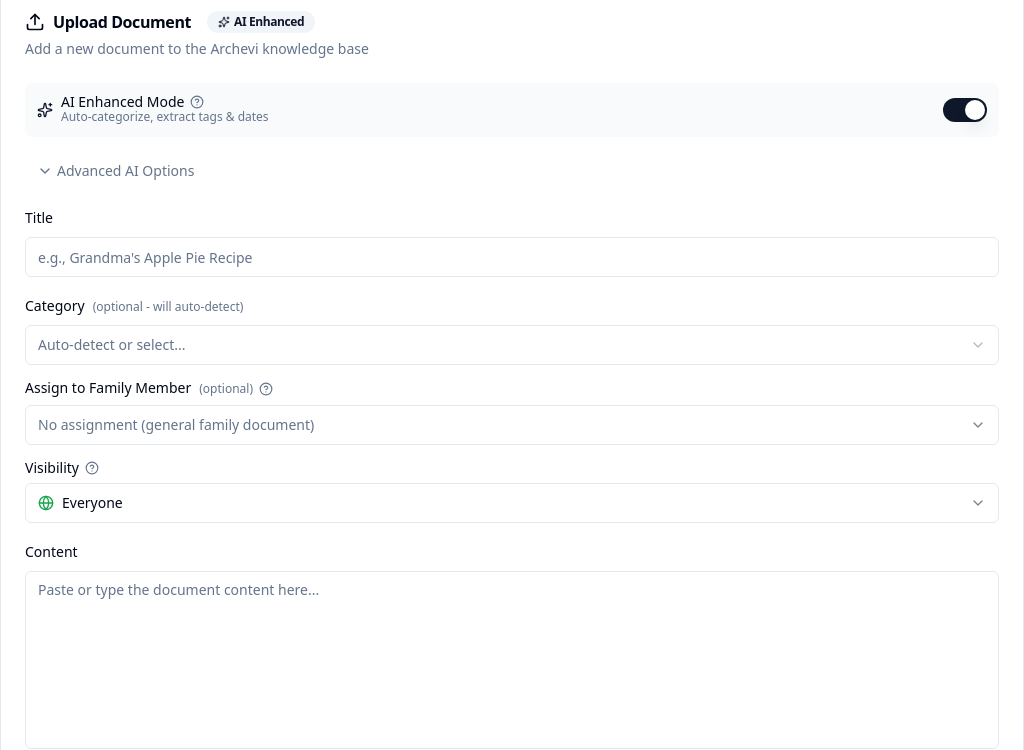
Test: DocumentUpload › Standard Mode Submission › shows category required error when enhanced mode is off
Note: Turn off enhanced mode
Click the switch named "AI Enhanced Mode" at {"x": 965, "y": 110}, box x1=943 y1=98 x2=987 y2=122
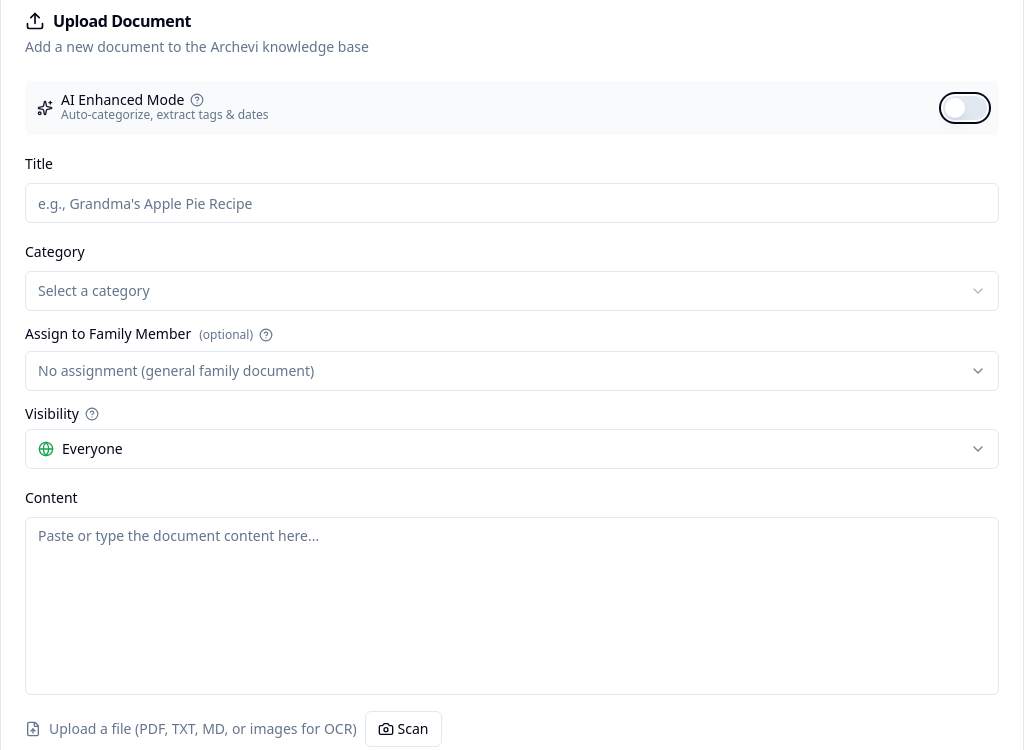
Type "Test Document" into the field labelled "Title" at {"x": 512, "y": 203}, box x1=25 y1=183 x2=999 y2=223
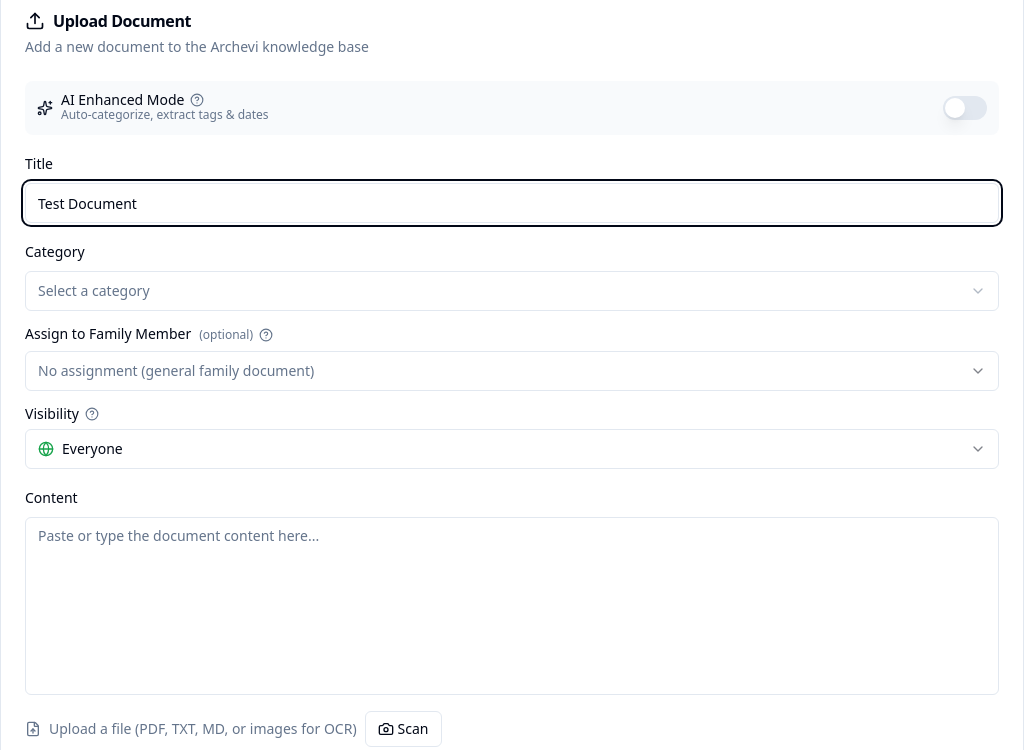
Type "Content here" into the text box labelled "Content" at {"x": 512, "y": 606}, box x1=25 y1=517 x2=999 y2=695
(page scrolled)
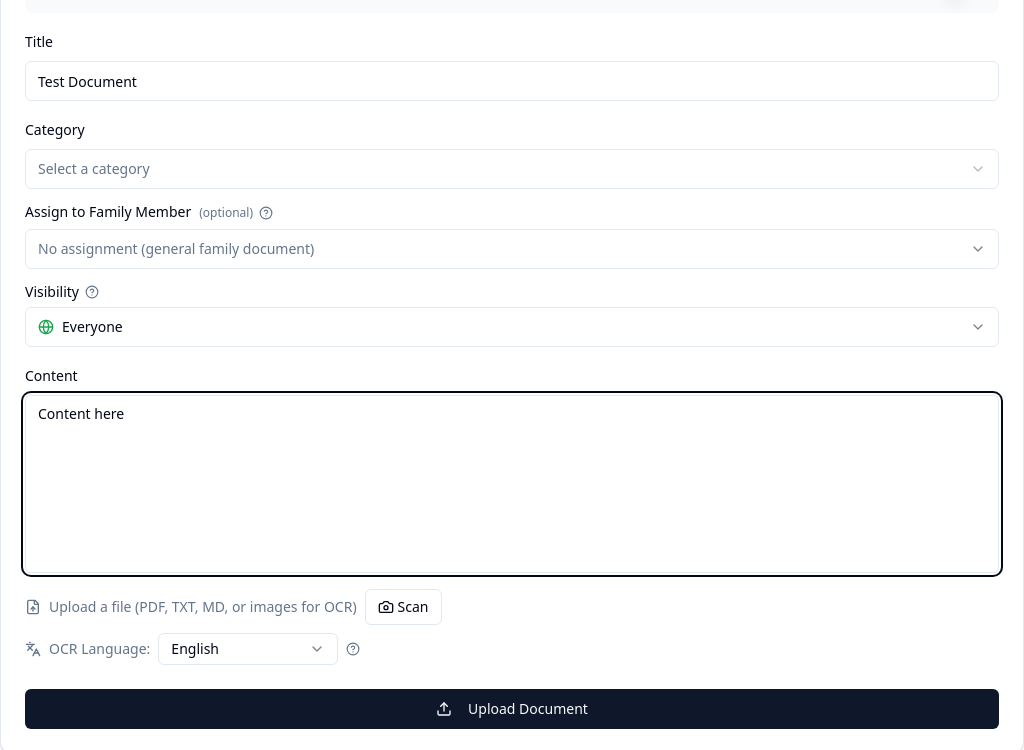
Note: Submit without selecting category
Click the button "Upload Document" at {"x": 512, "y": 709}, box x1=25 y1=689 x2=999 y2=729
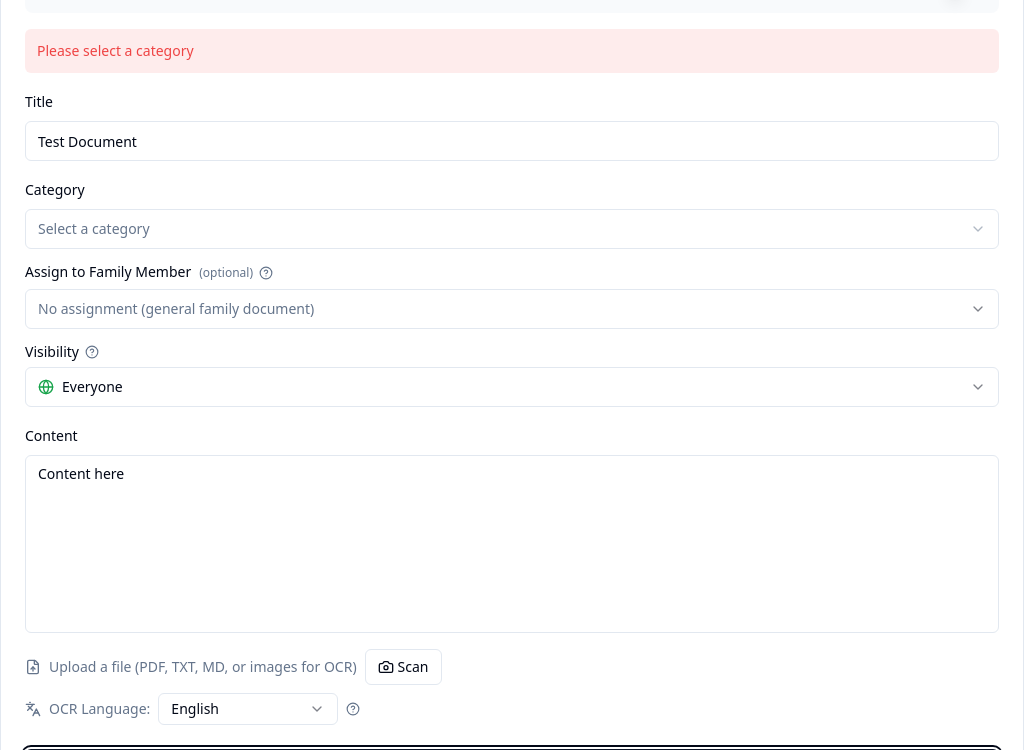
Now the text "Please select a category" is shown, box x1=25 y1=29 x2=999 y2=73
